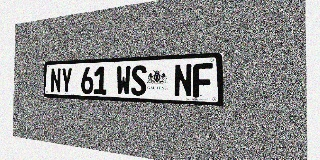1: (93, 66, 107, 95)
6: (81, 67, 93, 94)
F: (193, 63, 213, 98)
N: (174, 63, 192, 97), (50, 68, 61, 93)
S: (131, 65, 146, 96)
W: (116, 65, 131, 95)
Y: (61, 67, 72, 93)
